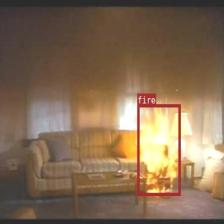fire: (136, 104, 180, 195)
